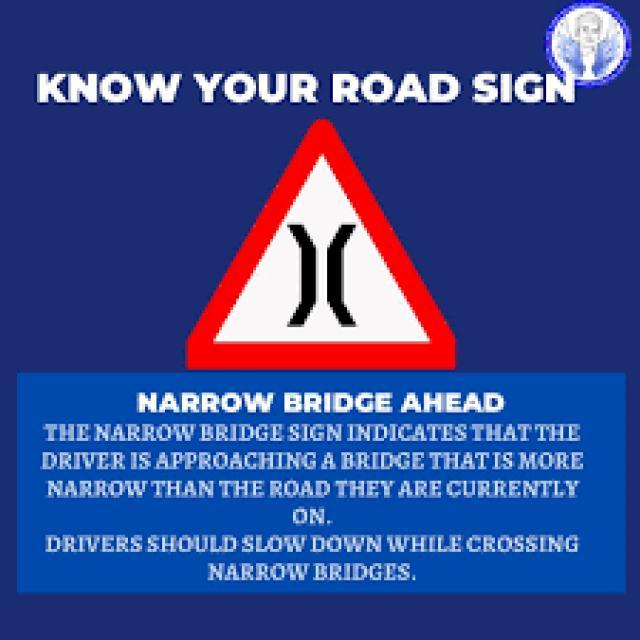narrow bridge ahead: (188, 117, 456, 368)
